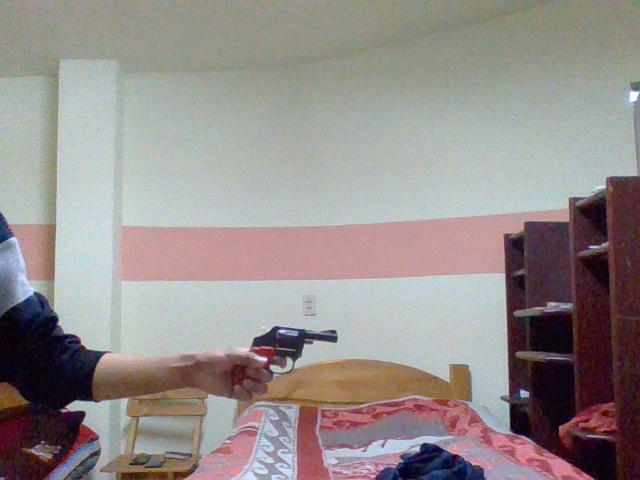pistola: (214, 320, 347, 402)
